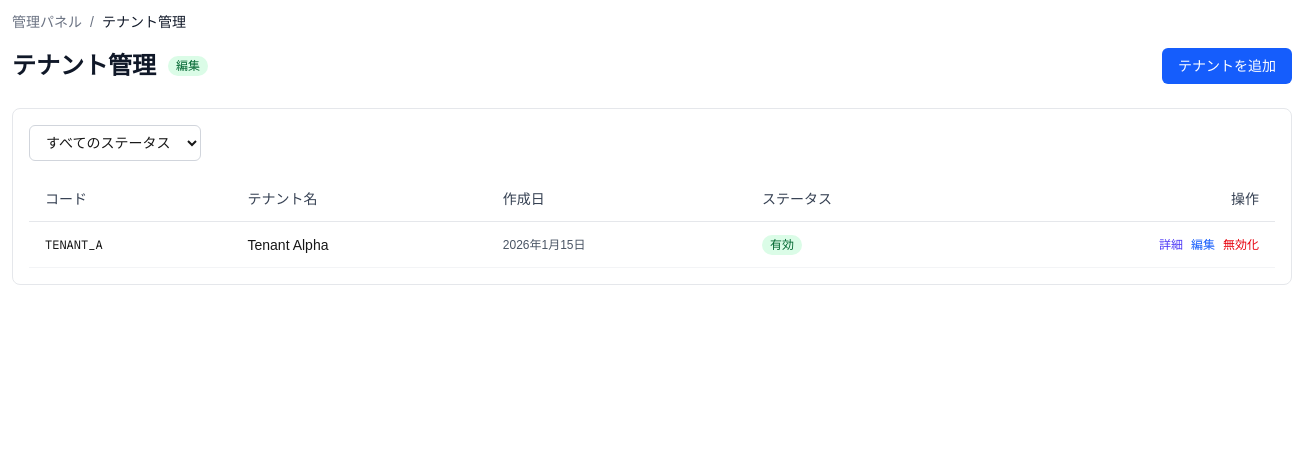
Test: AdminTenantsPage › shows default patterns section when tenant is selected via details
Expected: the text "Tenant Alpha" is shown, [232, 222, 487, 268]
# Click details to select tenant
Step 1. Click the button "詳細" → (1171, 244), box [1159, 236, 1183, 252]
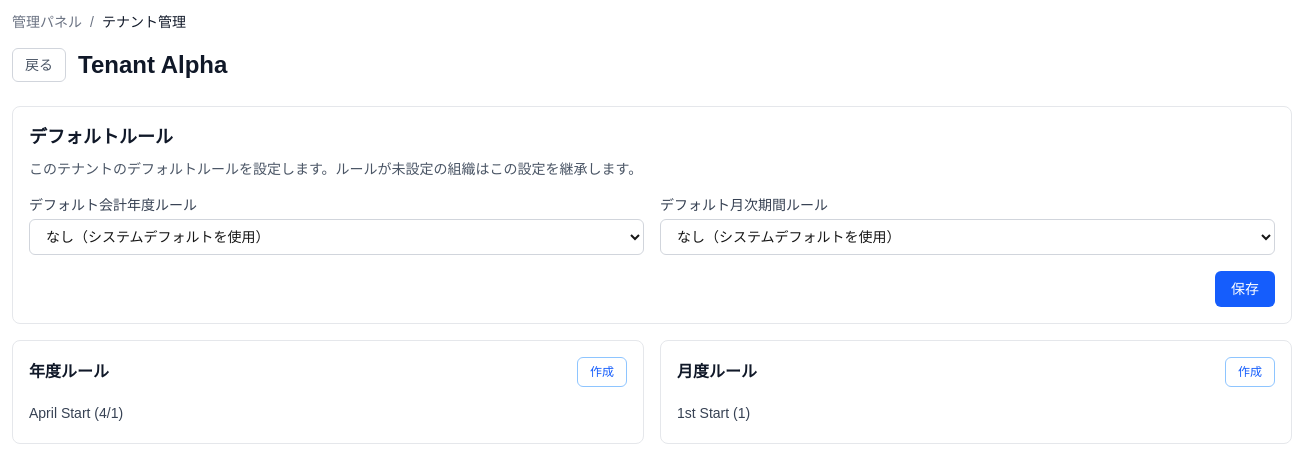
Expected: the heading "デフォルトルール" is shown, [29, 127, 173, 147]
